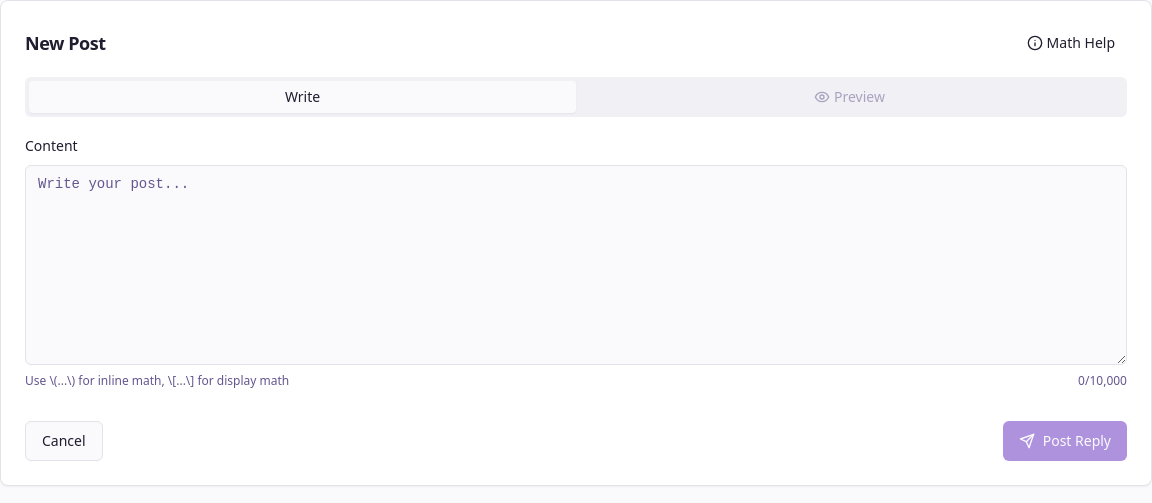
Test: PostComposer › shows character count
Type "Hello" into the text box with placeholder "Write your post...".
click(576, 265); type("Hello")  # box 25,165 -> 1127,365
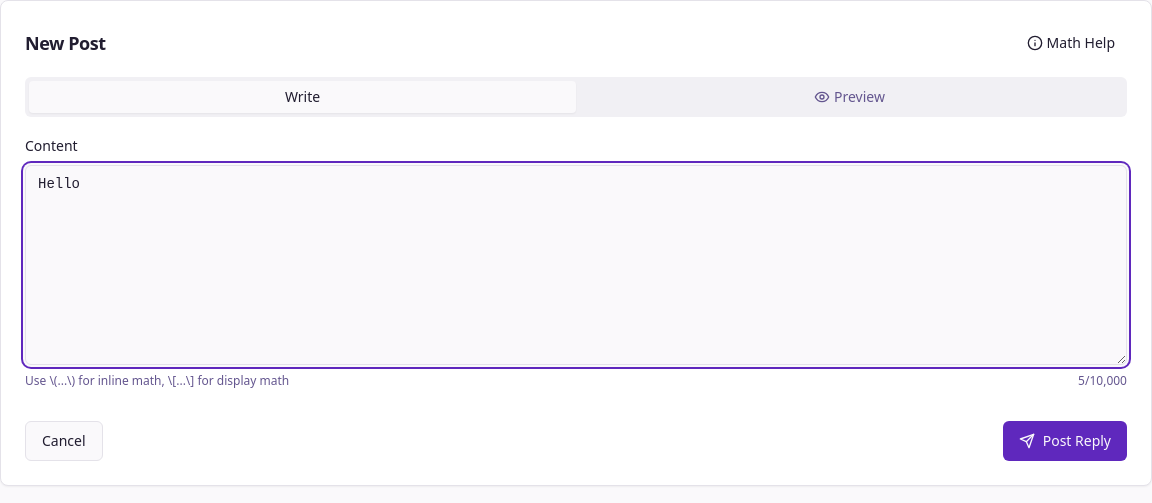
Check: the text "5/10,000" is shown, box 1078,373 -> 1127,389
